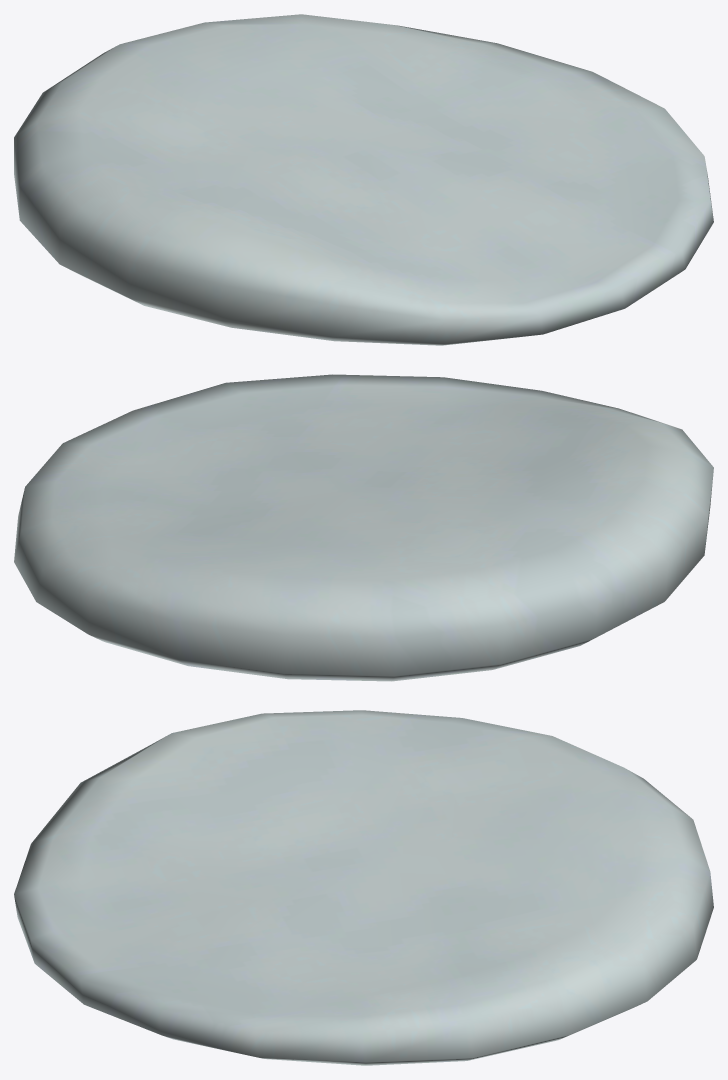
File: barrel_snow_01.glb
3 views of the same model, one above another, from view 1: azimuth 30°, elevation 25°; view 2: azimuth 150°, elevation 25°; view 3: azimuth 270°, elevation 25° (orthographic).
Visible parts, largest first — view 1: barrel_snow_01; view 2: barrel_snow_01; view 3: barrel_snow_01.
Part boxes in pixels (left/top/right/bottom): barrel_snow_01: left=14, top=14, right=713, bottom=345; barrel_snow_01: left=14, top=374, right=713, bottom=681; barrel_snow_01: left=14, top=710, right=713, bottom=1065.
Size of the model in its own units: 0.6199 by 0.0975 by 0.6267.
1 material, 1 textured.
